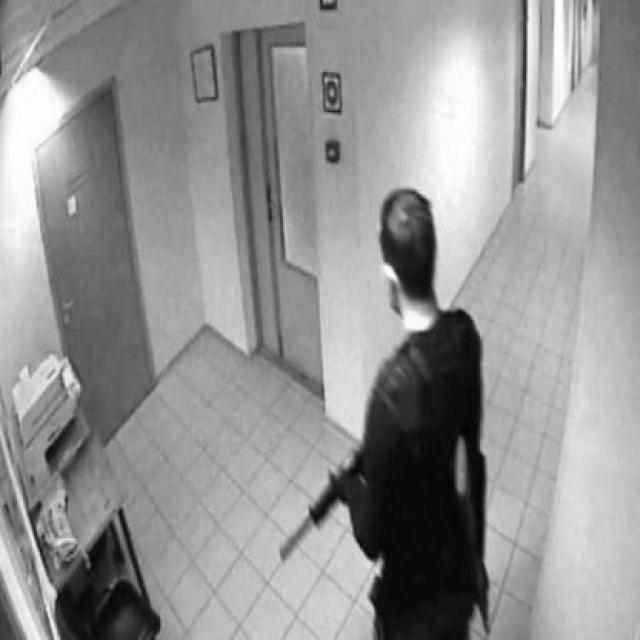weapon: (276, 437, 372, 562)
